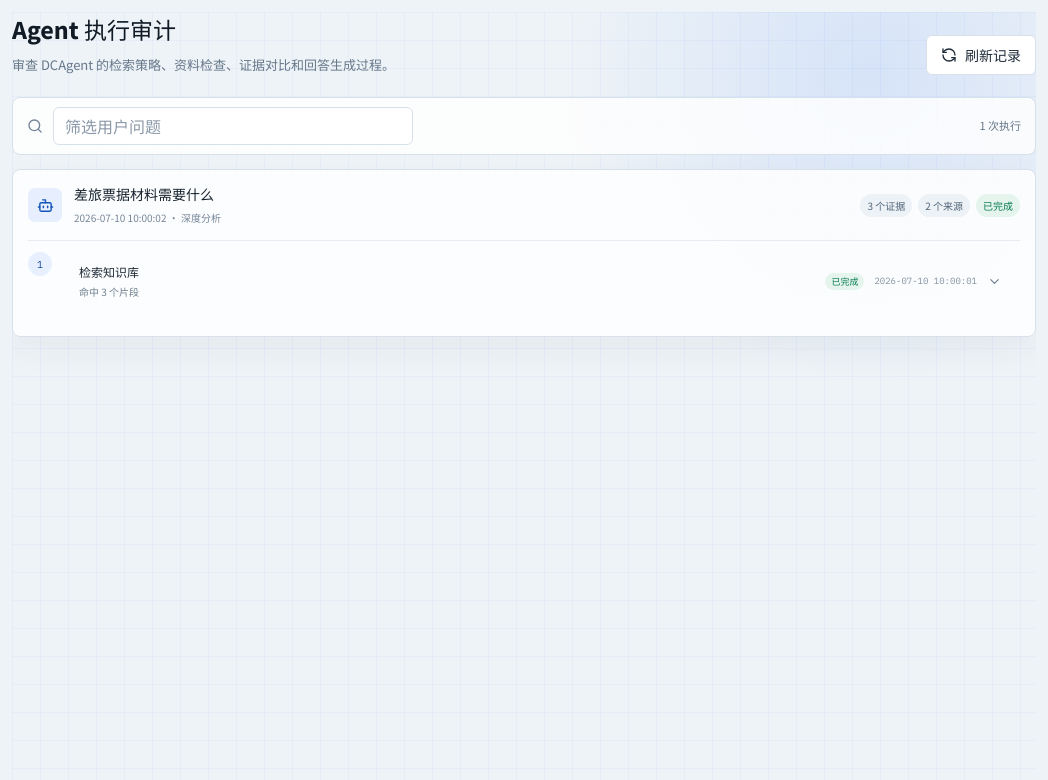
Scenario: AgentAuditPage › keeps every agent step collapsed by default and expands its full details
Click the heading with test id "agent-step-summary-step-1" at (109, 273), box x1=79 y1=264 x2=1002 y2=299
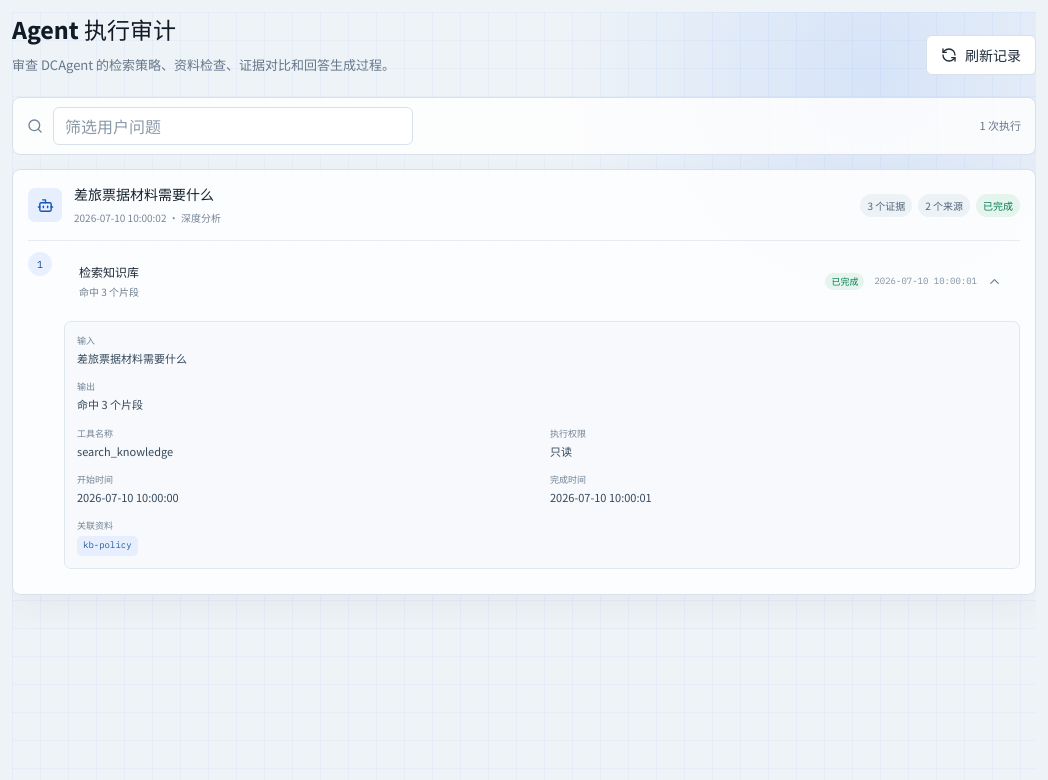
Now the element with test id "agent-step-details-step-1" shows "输入", box x1=77 y1=334 x2=95 y2=347
Now the element with test id "agent-step-details-step-1" shows "差旅票据材料需要什么", box x1=77 y1=351 x2=187 y2=367
Now the element with test id "agent-step-details-step-1" shows "输出", box x1=77 y1=380 x2=95 y2=394
